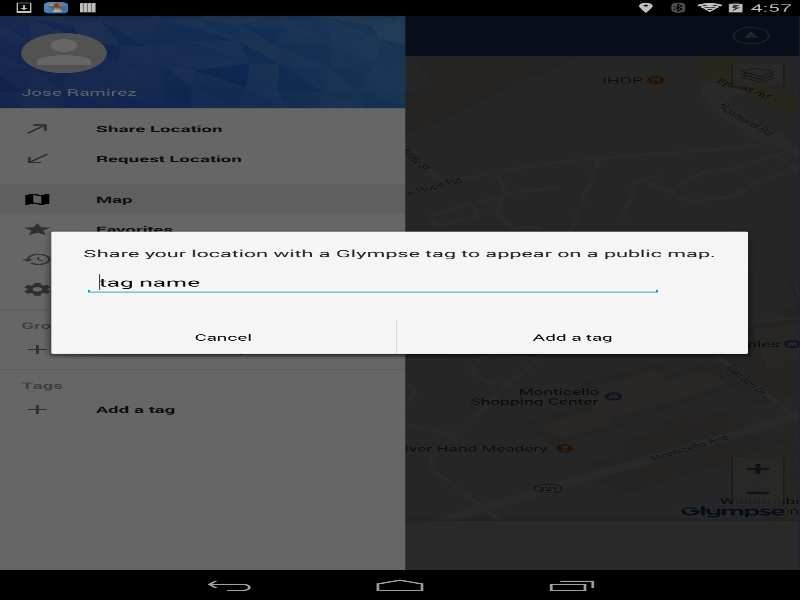Button: (397, 320, 748, 354), (51, 320, 396, 354)
Input: (83, 270, 662, 294)
